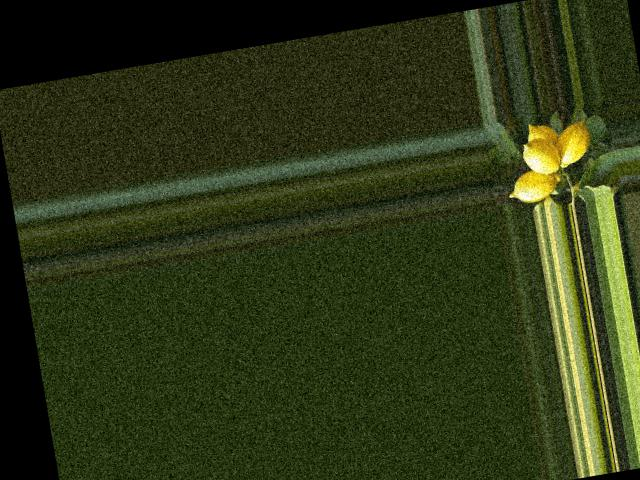lemon: (517, 113, 565, 163)
